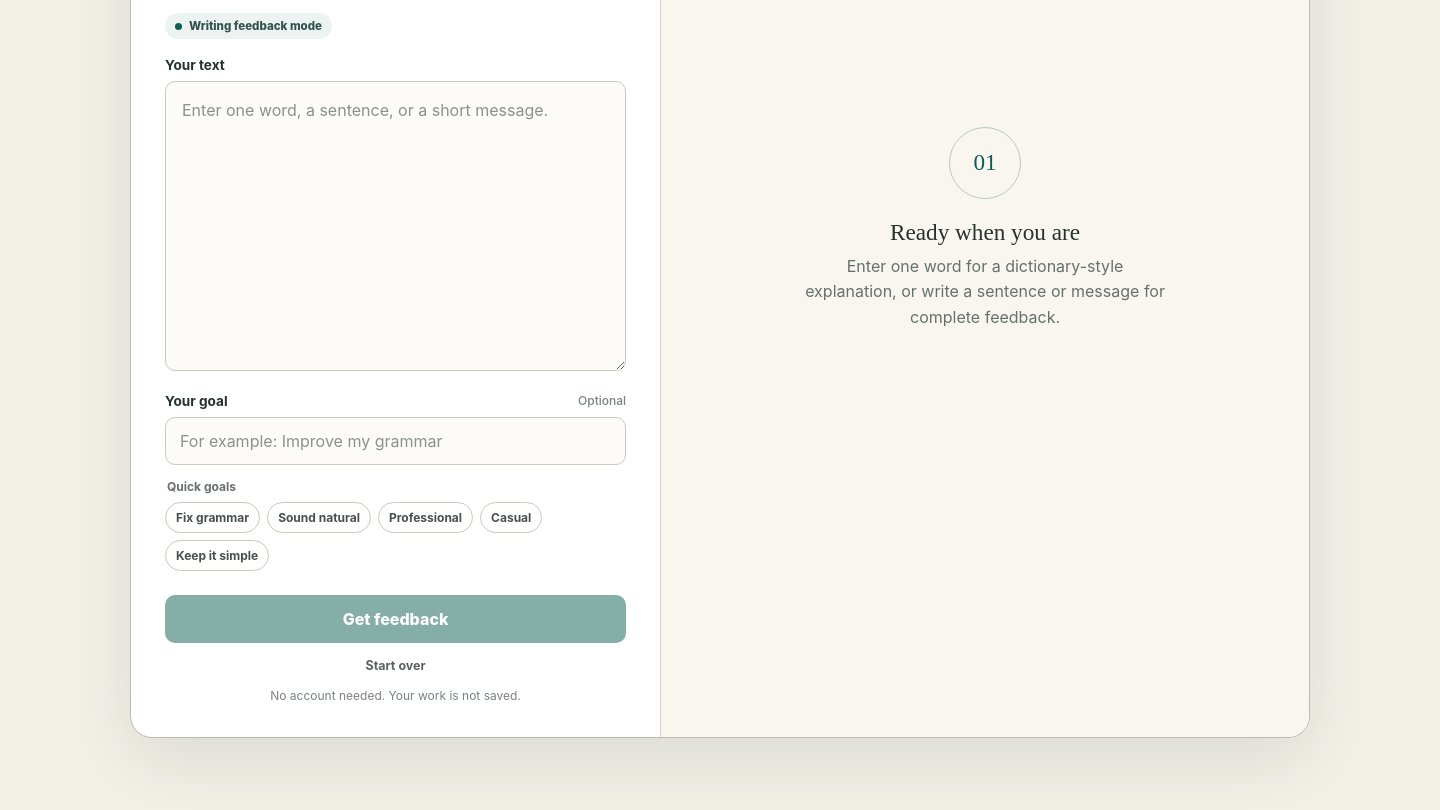
Test: Writing Coach interactions › Start over clears the form and result and focuses the textarea
(page scrolled)
Click the button "Professional".
click(425, 518)  # box [378,502,473,533]
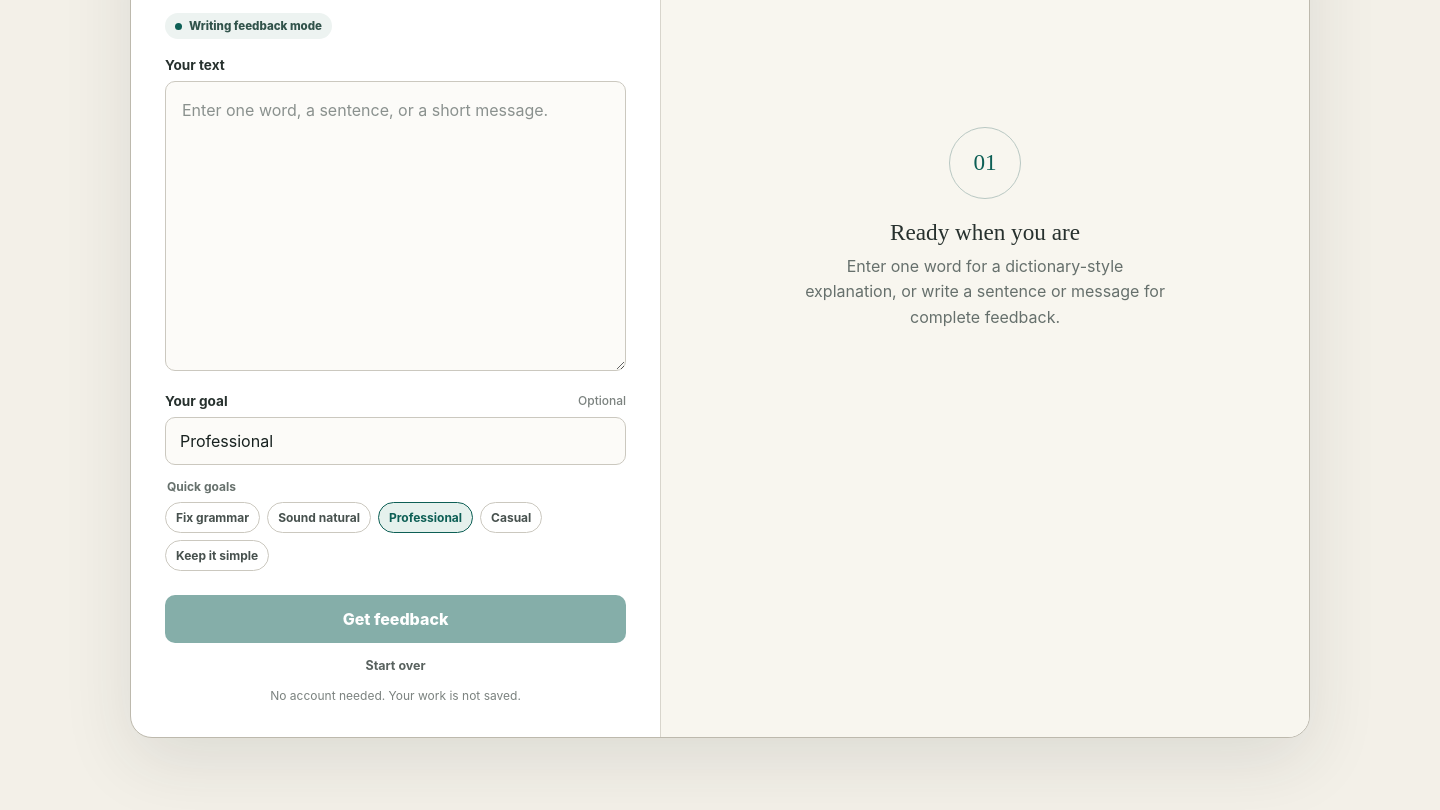
Type "I go supermarket yesterday." into the text box labelled "Your text".
click(396, 226); type("I go supermarket yesterday.")  # box [165,81,626,371]
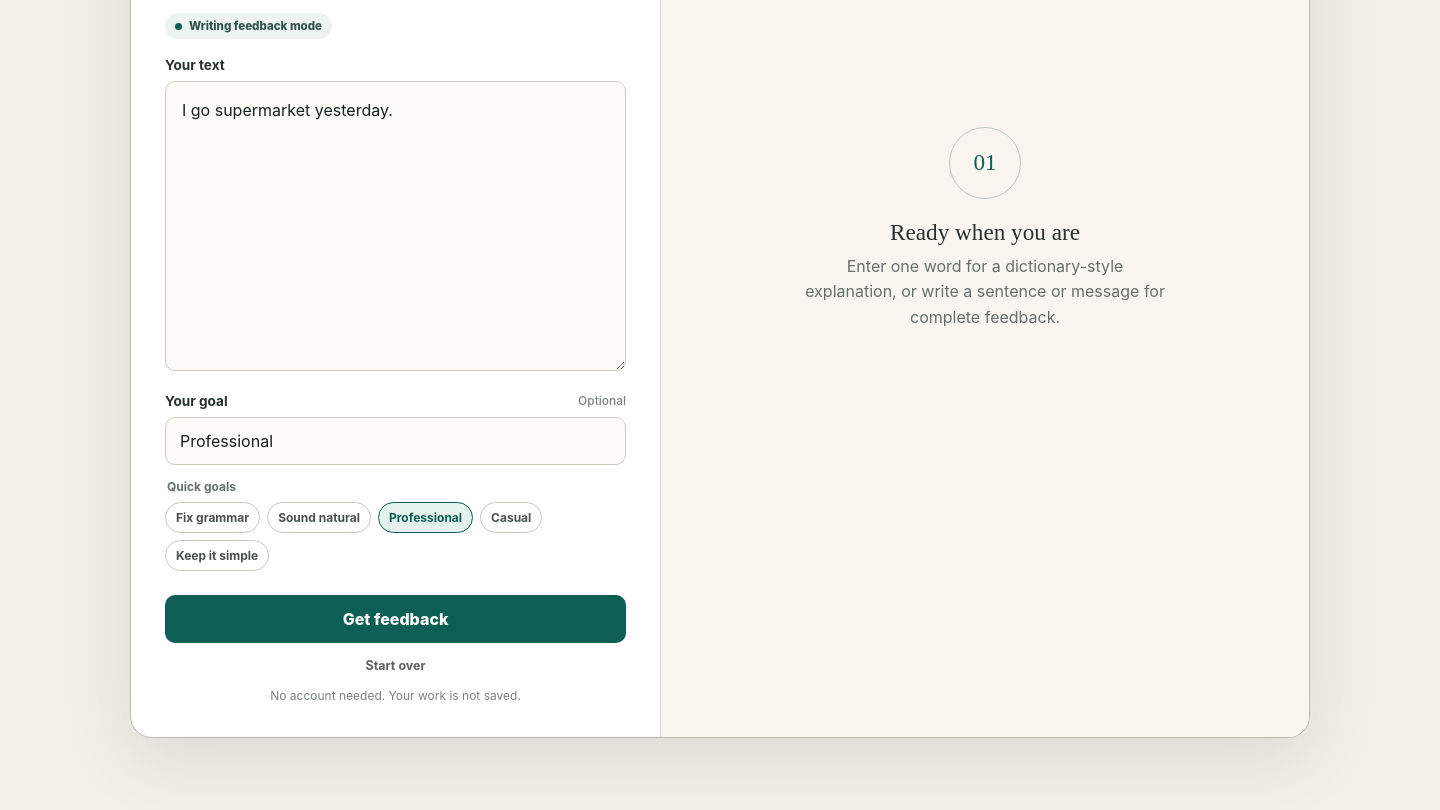
Click the button "Get feedback".
click(396, 619)  # box [165,595,626,643]
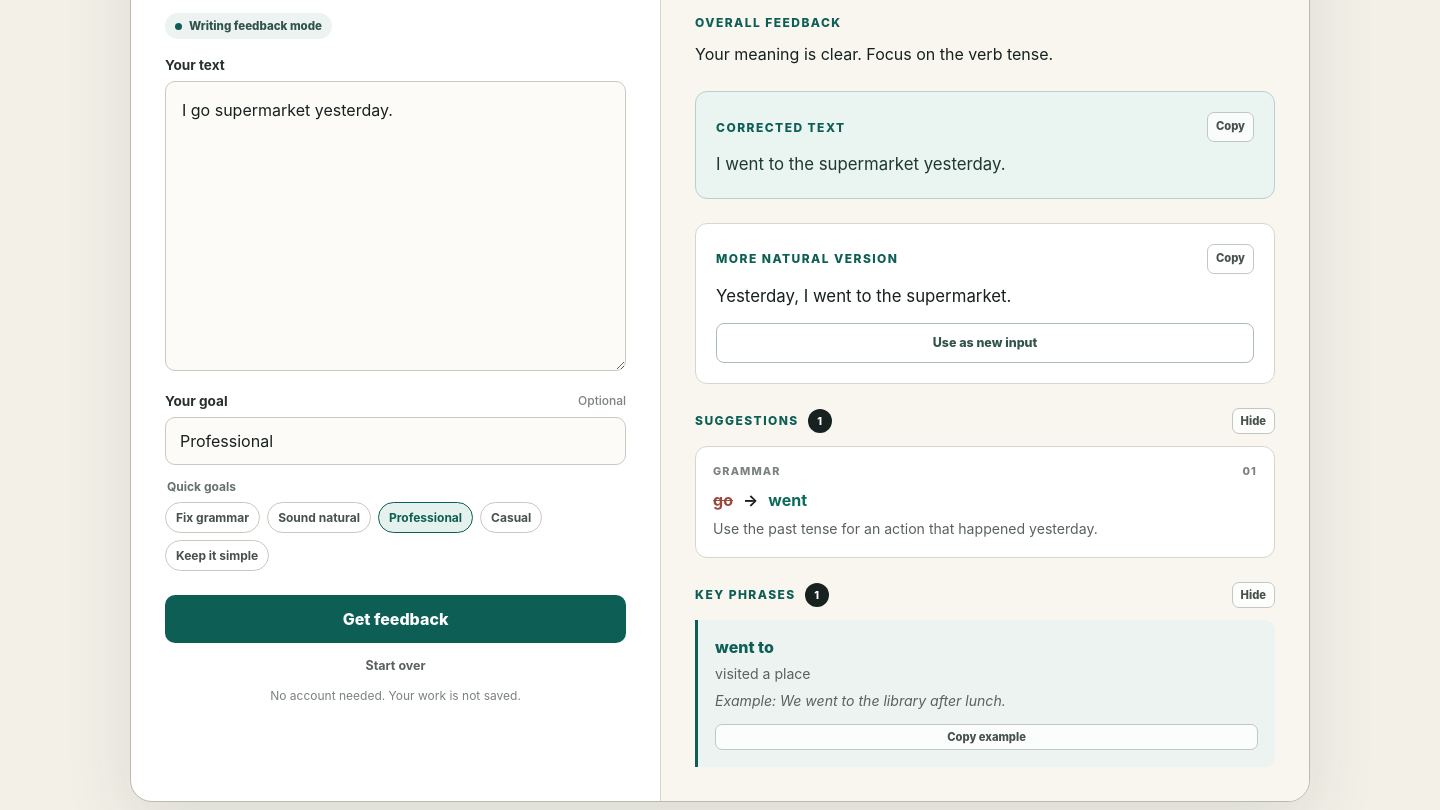
Check: the text "Corrected text" is shown, box [716,118,846,137]
Click the button "Start over".
click(396, 666)  # box [358,653,433,678]
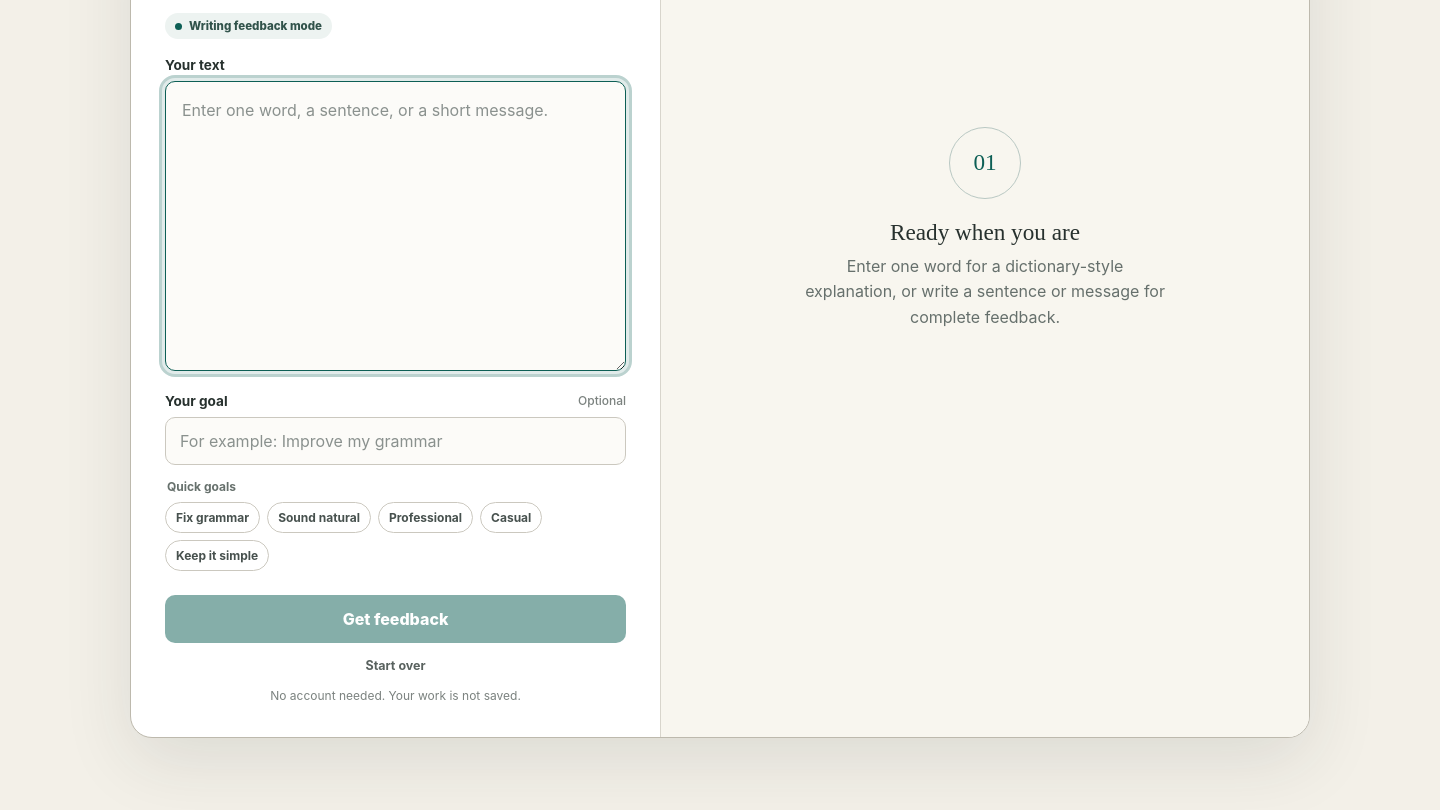
Check: the text box labelled "Your text" is empty, box [165,81,626,371]
Check: the field labelled "Your goal Optional" is empty, box [165,417,626,465]
Check: the text "Corrected text" is gone
